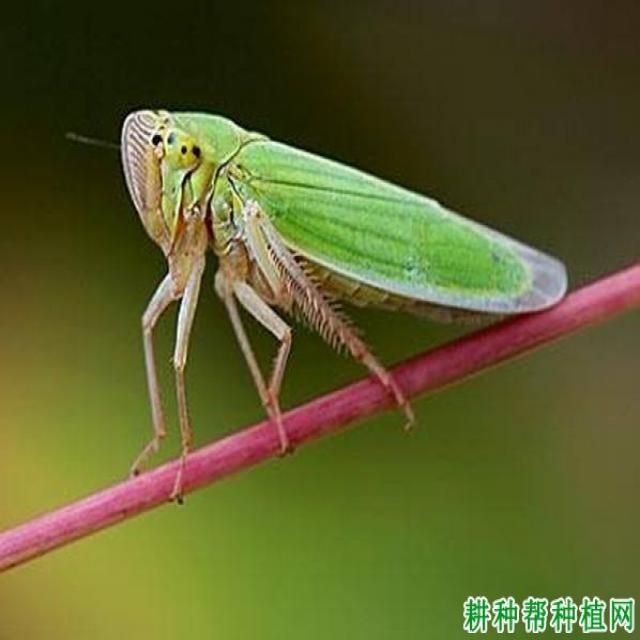Yechan: (87, 94, 575, 387)
